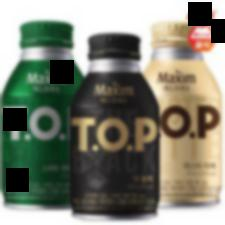TOP_black: (69, 31, 163, 223)
